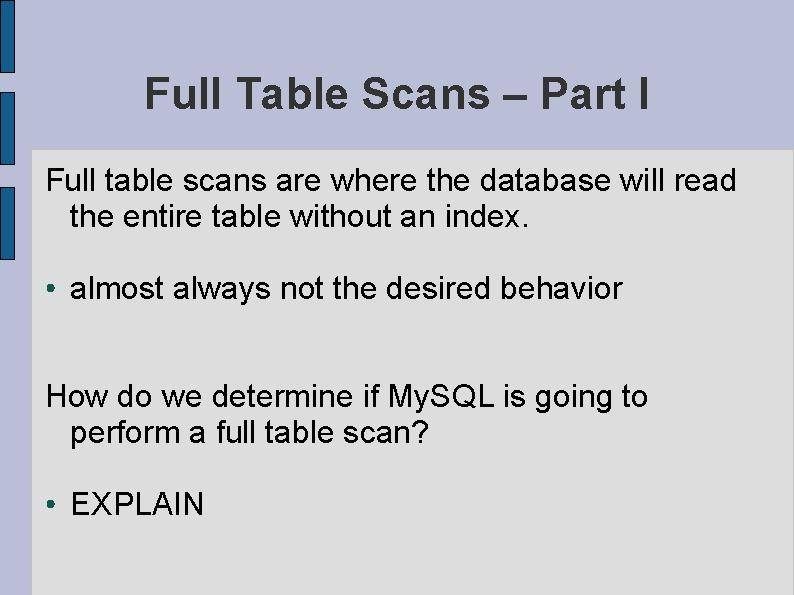paragraph: (36, 157, 764, 547)
title: (138, 49, 660, 127)
